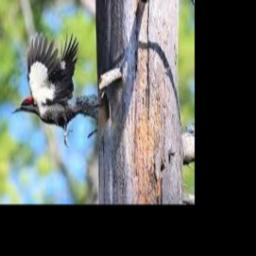Woodpecker: (10, 32, 103, 147)
